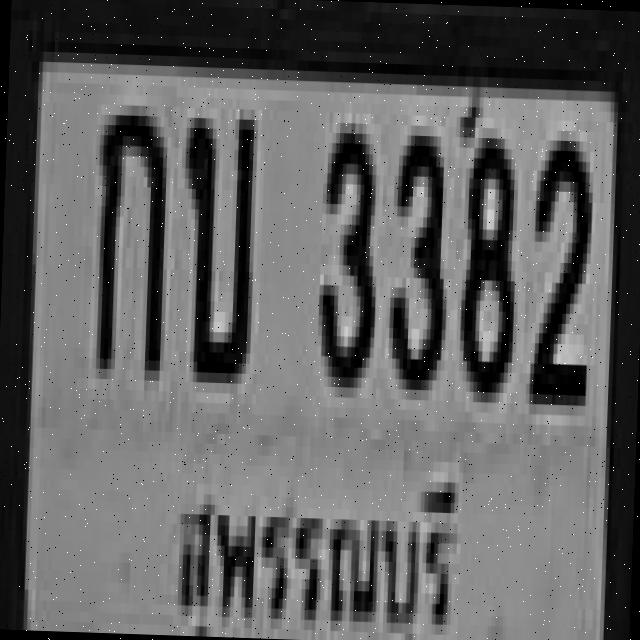10GorGai: (88, 93, 165, 370)
2: (526, 130, 590, 396)
3: (312, 112, 378, 378), (384, 124, 448, 380)
35BorBaiMai: (174, 96, 255, 374)
8: (454, 126, 516, 392)
SuphanBuri: (157, 432, 463, 640)
